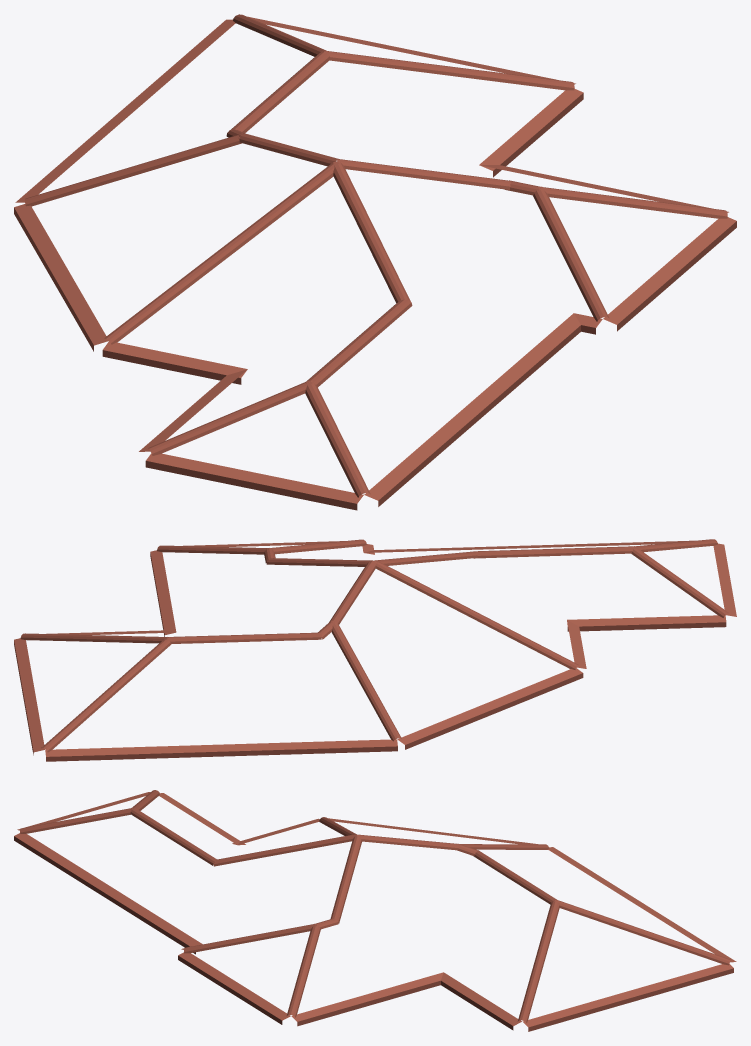
The picture shows the model from 3 angles, top to bottom: view 1: azimuth 30°, elevation 25°; view 2: azimuth 150°, elevation 25°; view 3: azimuth 270°, elevation 25°; orthographic projection. The views are drawn at different scales.
Visible parts, largest first — view 1: detail; view 2: detail; view 3: detail.
Part boxes in pixels (box(x1,y1,x2,y2)): detail: box(14, 14, 736, 510); detail: box(14, 539, 736, 761); detail: box(14, 790, 736, 1031).
Size of the model in its own units: 16.72 by 2.64 by 21.68.
